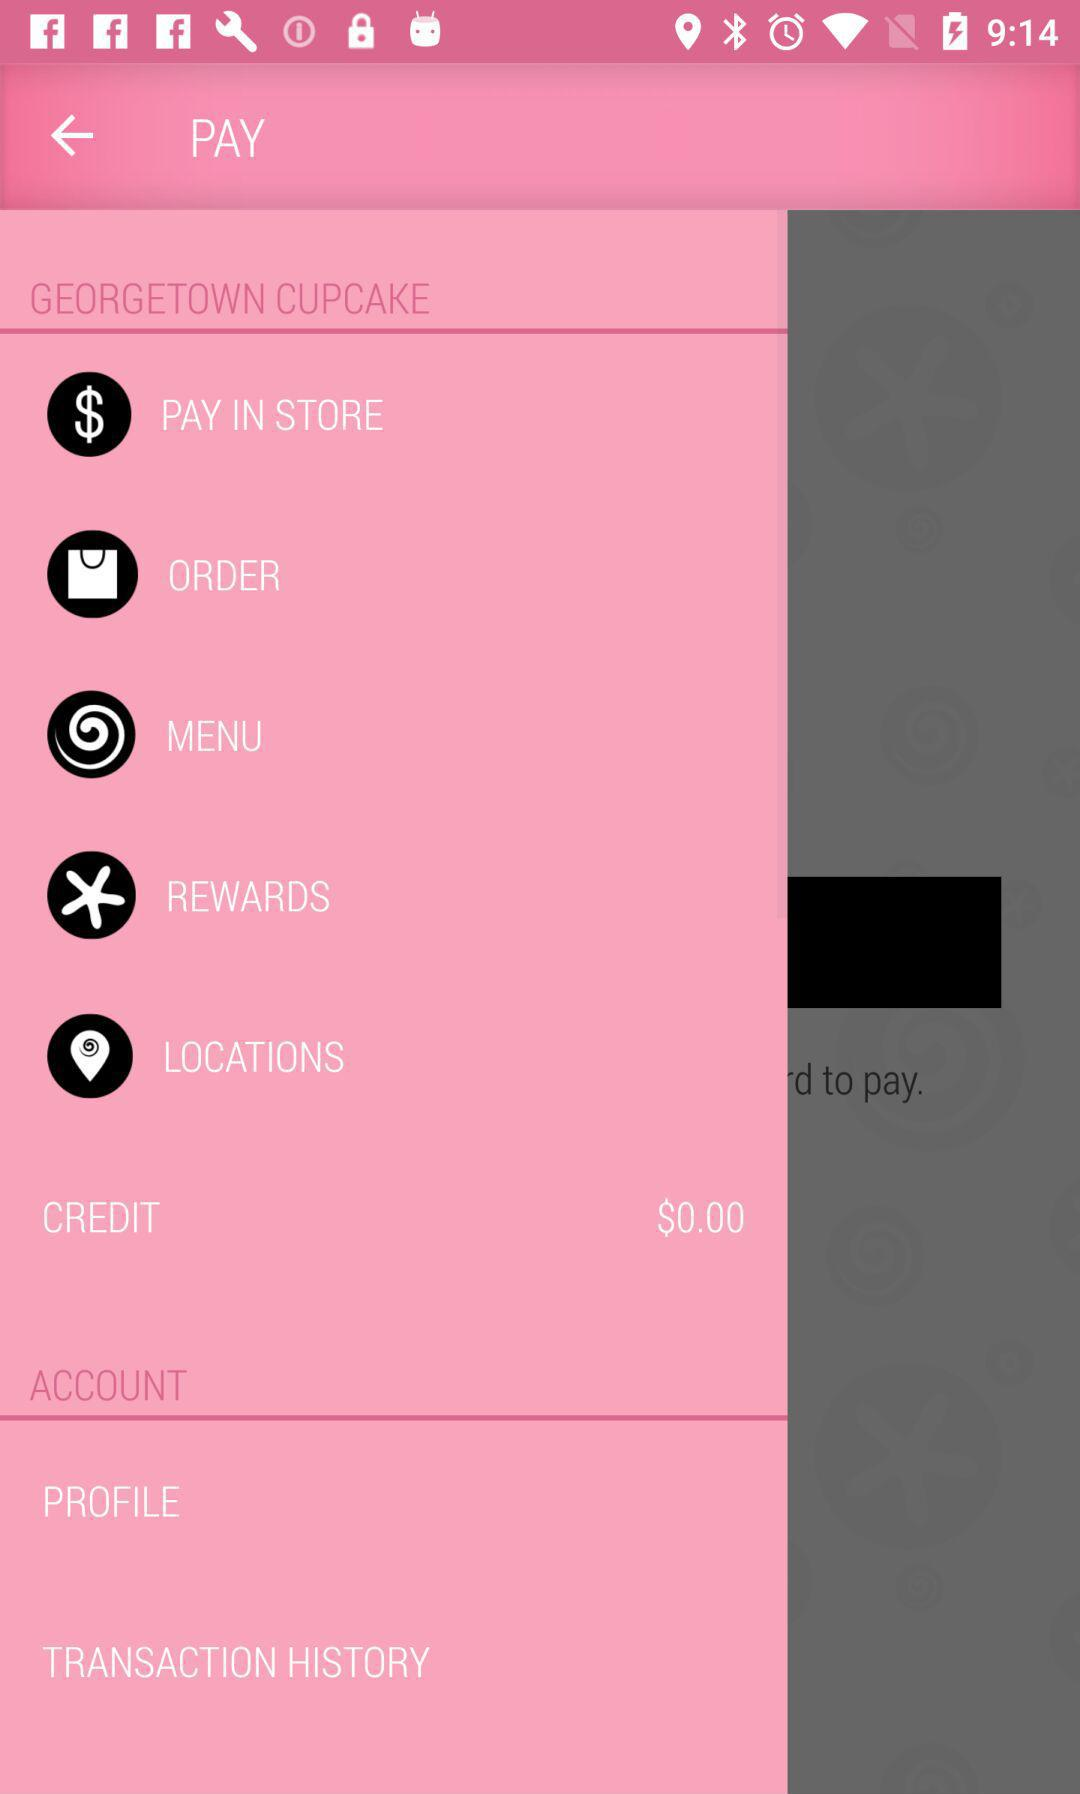Drawer: (1, 211, 788, 1793)
Icon: (47, 531, 141, 621), (46, 372, 133, 459), (47, 1014, 135, 1099), (50, 114, 95, 159)
Image: (46, 689, 138, 780), (47, 850, 137, 941)
Text: (41, 1644, 433, 1681), (31, 282, 434, 318), (161, 399, 386, 434), (164, 1039, 346, 1075), (167, 879, 332, 915), (29, 1369, 191, 1403), (44, 1484, 183, 1521), (169, 557, 282, 595), (44, 1201, 163, 1235), (167, 719, 264, 755), (656, 1197, 743, 1237), (192, 117, 266, 161)
UpperTaskBar: (1, 1, 1080, 64)
